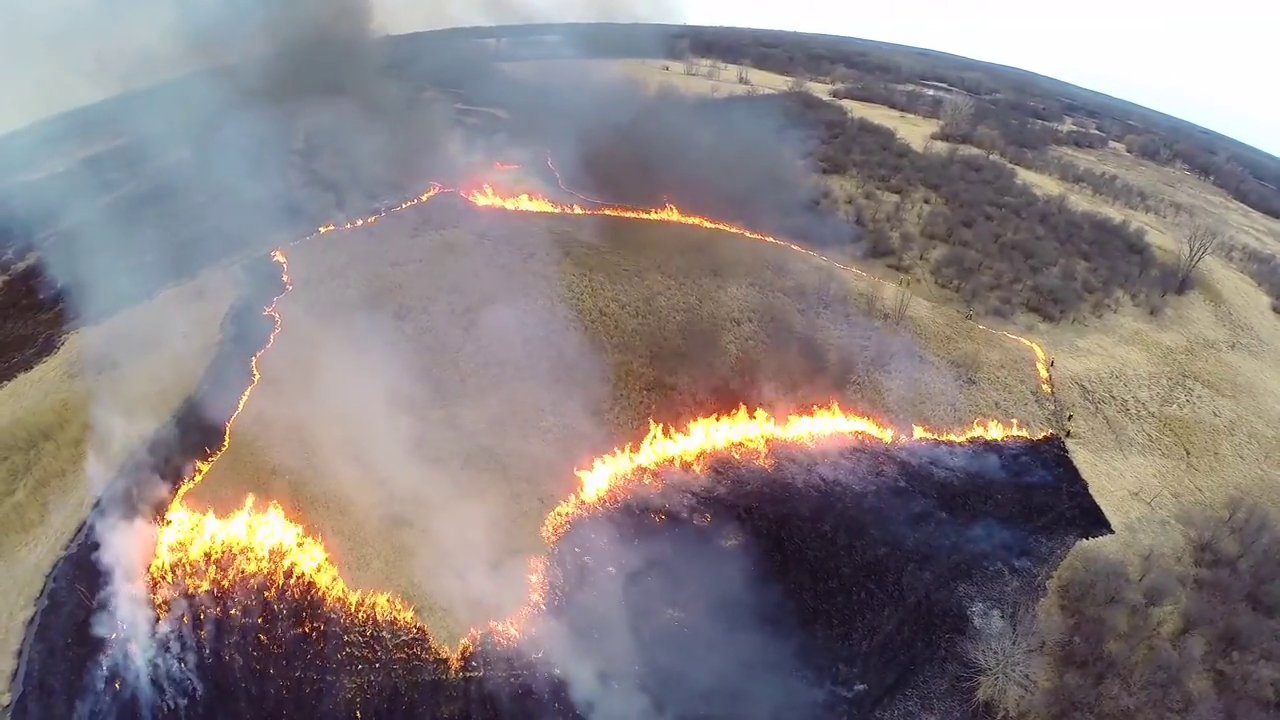forest_fire: (146, 248, 1053, 676), (309, 184, 863, 273), (991, 329, 1052, 392), (303, 623, 326, 632), (297, 239, 300, 240)
